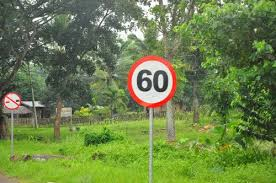Speed_limit_60km: (127, 54, 177, 108)
